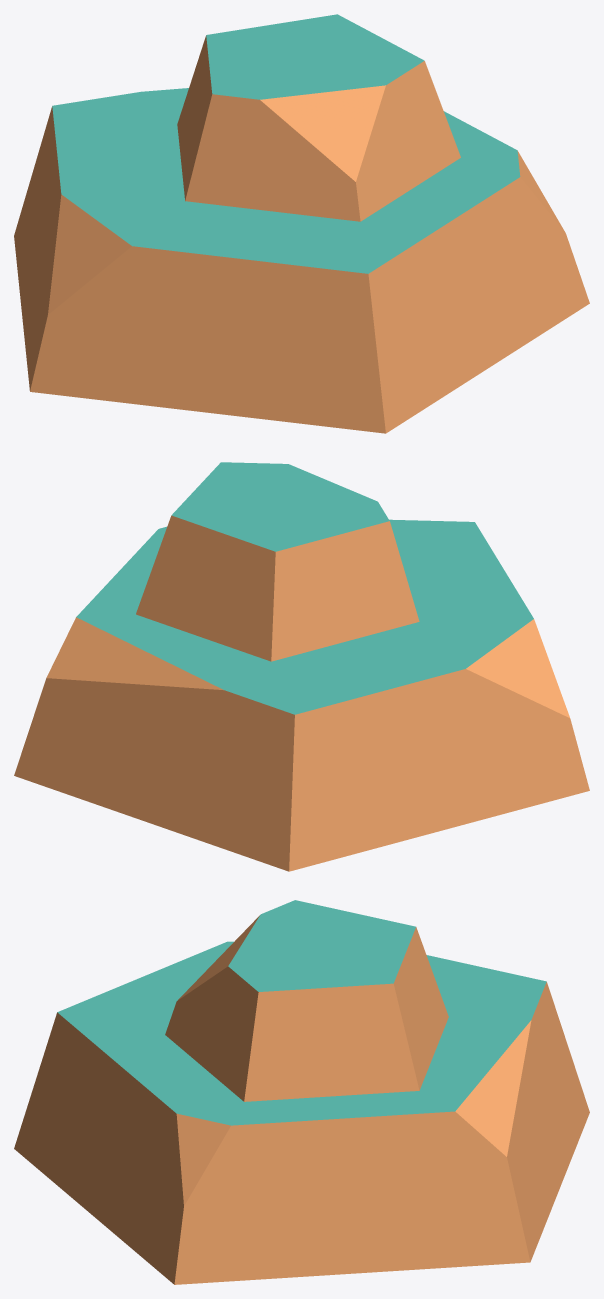
The model's file is rock_smallTop1.fbx.
3 renders of one model, top to bottom at view 1: azimuth 30°, elevation 25°; view 2: azimuth 150°, elevation 25°; view 3: azimuth 270°, elevation 25°, orthographic. The views are drawn at different scales.
Visible parts, largest first — view 1: rock_smallTop1; view 2: rock_smallTop1; view 3: rock_smallTop1.
Part boxes in pixels (x1=…): rock_smallTop1: x1=14, y1=14, x2=589, y2=433; rock_smallTop1: x1=14, y1=462, x2=589, y2=871; rock_smallTop1: x1=14, y1=900, x2=589, y2=1284.
Bounding box in the file's own units: 4.88 × 2.2 × 4.89.
